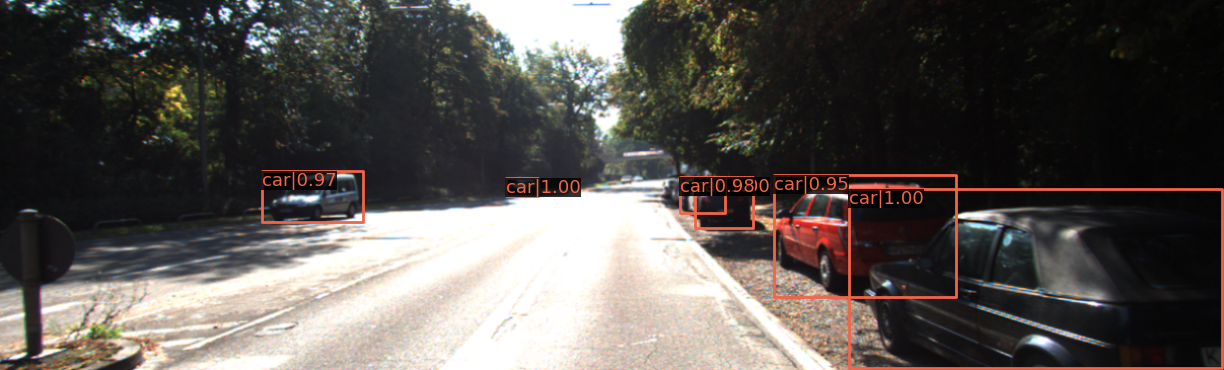car: (858, 194, 1224, 370), (771, 180, 976, 300), (265, 170, 362, 222), (699, 177, 752, 228), (690, 180, 741, 220), (682, 180, 719, 213), (506, 178, 538, 197), (667, 180, 691, 201)
